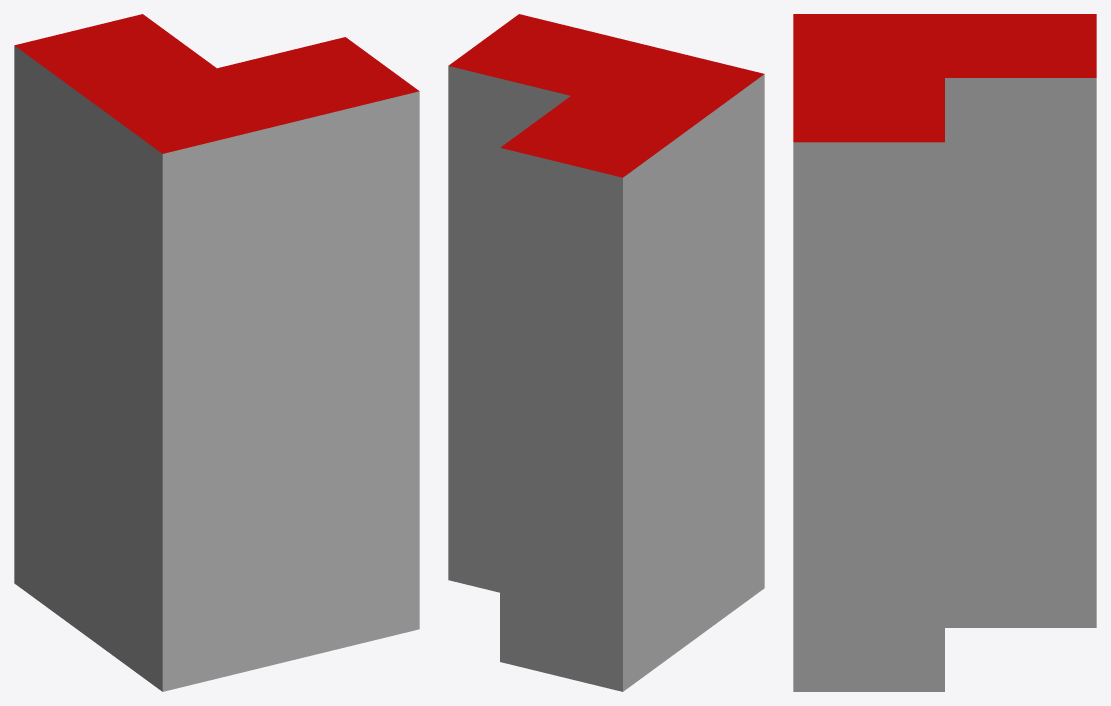
Rendered from x_KREPOST_wall_28_colonna_podval_HR1_rmstrd.fbx.
The picture shows the model from 3 angles, left to right: view 1: azimuth 30°, elevation 25°; view 2: azimuth 150°, elevation 25°; view 3: azimuth 270°, elevation 25°; orthographic projection. The views are drawn at different scales.
Parts seen in each view (by area): view 1: x_KREPOST_wall_28_colonna_podval_HR1_rmstrd1; view 2: x_KREPOST_wall_28_colonna_podval_HR1_rmstrd1; view 3: x_KREPOST_wall_28_colonna_podval_HR1_rmstrd1.
Boxes of the visible parts, x1,y1,x2,y2 form: x_KREPOST_wall_28_colonna_podval_HR1_rmstrd1: (14, 14, 419, 691); x_KREPOST_wall_28_colonna_podval_HR1_rmstrd1: (448, 14, 764, 691); x_KREPOST_wall_28_colonna_podval_HR1_rmstrd1: (793, 14, 1096, 691).
Bounding box in the file's own units: 2 × 4 × 2.
